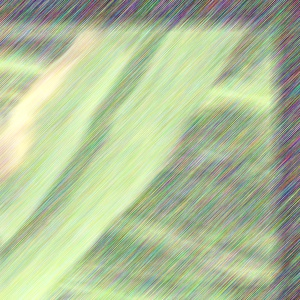Leaf_Blast: (0, 96, 115, 270)
